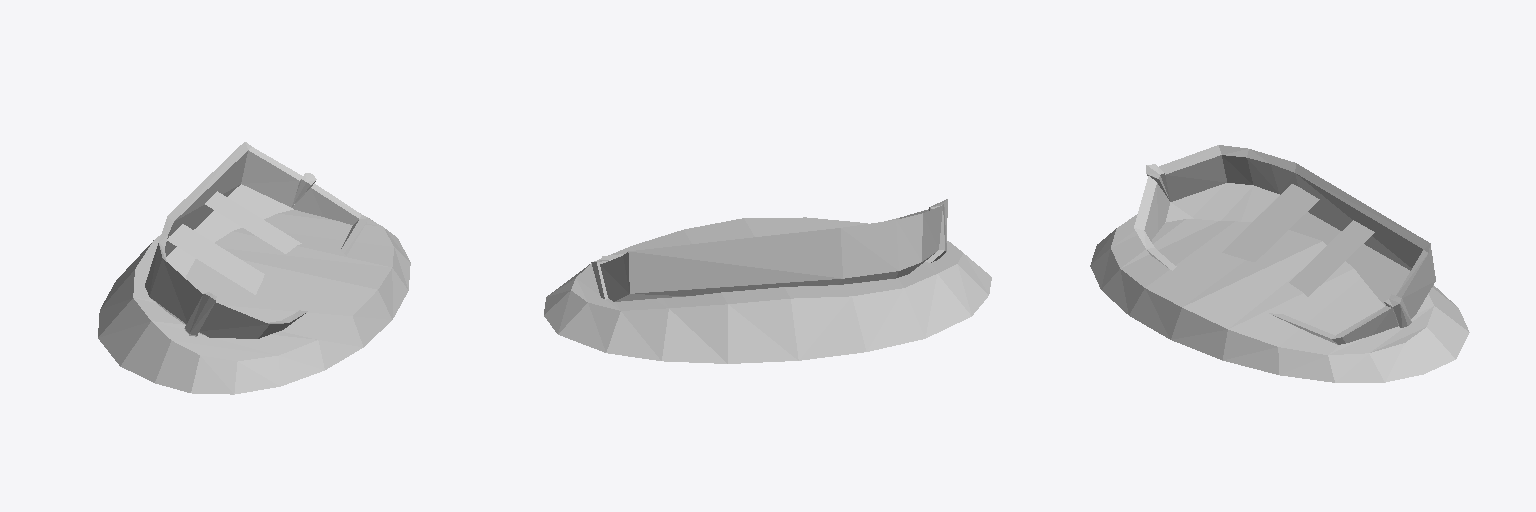
Rendered from scaledBoat.obj.
3 views of the same model, side by side, from view 1: azimuth 30°, elevation 25°; view 2: azimuth 150°, elevation 25°; view 3: azimuth 270°, elevation 25° (orthographic).
Visible parts, largest first — view 1: pCylinder3; view 2: pCylinder3; view 3: pCylinder3.
Boxes of the visible parts, x1,y1,x2,y2 form: pCylinder3: [98, 142, 410, 394]; pCylinder3: [544, 199, 991, 363]; pCylinder3: [1090, 145, 1469, 382].
Bounding box in the file's own units: 13.83 × 4.18 × 13.38.